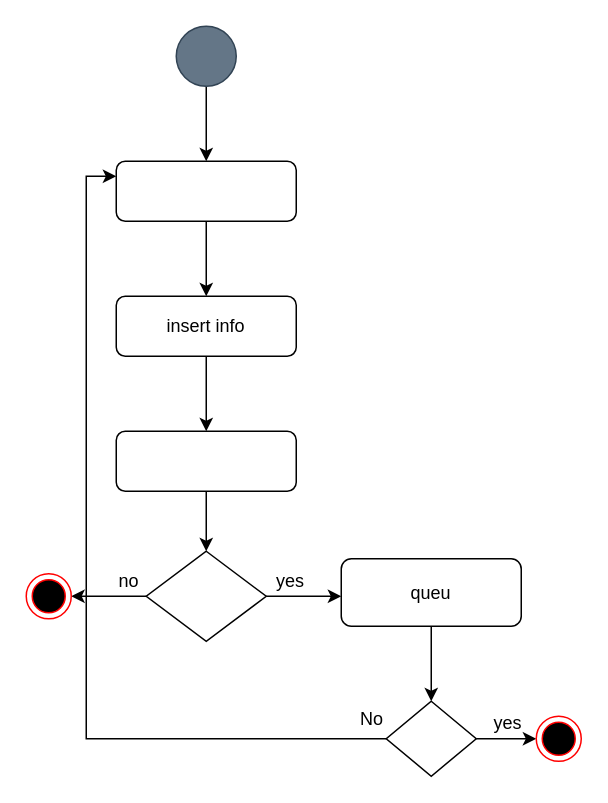
Some shapes in this 608 by 803 pixel diagram are drawn without their labels. Here are the shapes that lost their labels. From the top down, the centre of each, then its label:
At (205,190): "Online_visit request".
At (205,460): "payment".
